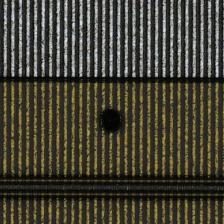PARTICLE: (95, 106, 127, 138)
